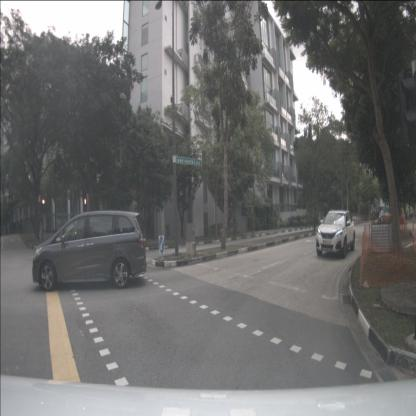vehicle-car: (33, 211, 146, 291), (317, 210, 355, 258)
vehicle-truck: (379, 197, 398, 225)
